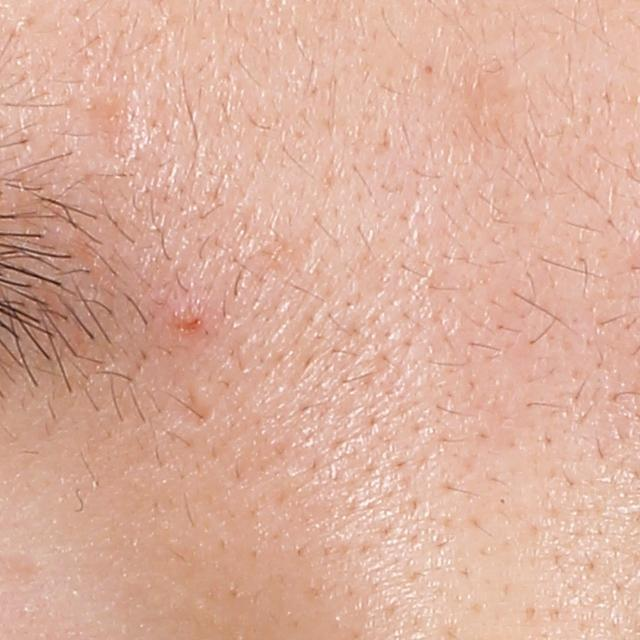atrophic_scar: (71, 77, 143, 174), (179, 387, 214, 433)
papule: (171, 305, 206, 340)
